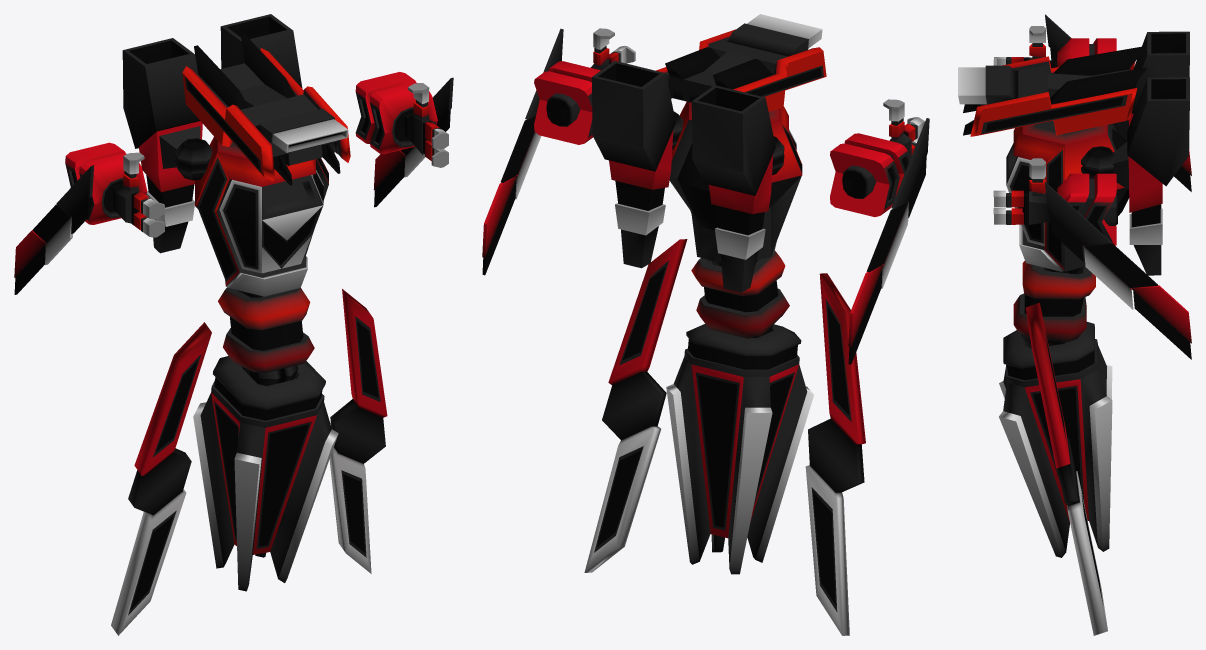
The model's file is JACKET.fbx.
3 renders of one model, left to right at view 1: azimuth 30°, elevation 25°; view 2: azimuth 150°, elevation 25°; view 3: azimuth 270°, elevation 25°, orthographic. The views are drawn at different scales.
Parts seen in each view (by area): view 1: Abdomen Joint 4, Jacket, Head, Right Thruster, Right Tail Fin, Left Tail Fin, Abdomen Joint 2, Left Arm, R Wing Upper, Right Arm, Left Thruster, L Wing (+2 smaller); view 2: Abdomen Joint 4, Right Thruster, Left Thruster, Right Tail Fin, Left Tail Fin, Head, Jacket, Abdomen Joint 2, Right Arm, R Wing Upper, Left Arm, L Wing; view 3: Abdomen Joint 4, Head, Left Thruster, Jacket, L Wing, Left Tail Fin, Abdomen Joint 2, Right Thruster, Left Arm, Right Arm, R Wing Upper, L Palm (+1 smaller).
Boxes of the visible parts, <box> form: Abdomen Joint 4: <box>193,356,338,591</box>; Jacket: <box>195,137,328,296</box>; Head: <box>182,34,350,185</box>; Right Thruster: <box>122,38,212,253</box>; Right Tail Fin: <box>111,322,211,635</box>; Left Tail Fin: <box>329,289,387,573</box>; Abdomen Joint 2: <box>218,287,314,372</box>; Left Arm: <box>355,72,437,153</box>; R Wing Upper: <box>14,165,94,294</box>; Right Arm: <box>65,142,147,224</box>; Left Thruster: <box>220,14,302,88</box>; L Wing: <box>373,77,453,207</box>; Abdomen Joint 4: <box>666,324,813,574</box>; Right Thruster: <box>691,85,784,292</box>; Left Thruster: <box>592,61,683,268</box>; Right Tail Fin: <box>805,273,865,635</box>; Left Tail Fin: <box>584,239,687,572</box>; Head: <box>656,14,826,111</box>; Jacket: <box>669,101,802,262</box>; Abdomen Joint 2: <box>691,250,789,338</box>; Right Arm: <box>830,133,910,216</box>; R Wing Upper: <box>848,118,929,364</box>; Left Arm: <box>534,61,600,144</box>; L Wing: <box>482,28,563,275</box>; Abdomen Joint 4: <box>999,322,1112,557</box>; Head: <box>958,46,1146,136</box>; Left Thruster: <box>1081,77,1189,275</box>; Jacket: <box>1006,120,1129,271</box>; L Wing: <box>1045,182,1191,359</box>; Left Tail Fin: <box>1025,303,1107,635</box>; Abdomen Joint 2: <box>1013,261,1095,341</box>; Right Thruster: <box>1113,31,1189,208</box>; Left Arm: <box>1057,173,1117,245</box>; Right Arm: <box>1057,38,1116,66</box>; R Wing Upper: <box>1045,14,1191,191</box>; L Palm: <box>1022,191,1050,224</box>.
Bounding box in the file's own units: 97.72 × 140 × 57.09.
